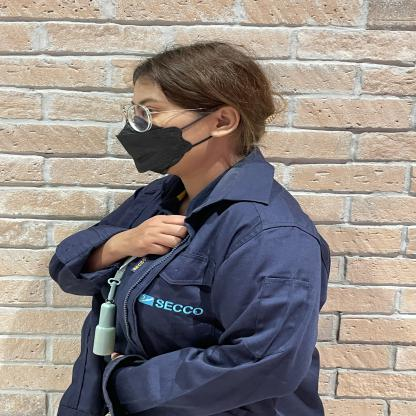Sadness: (54, 198, 209, 308)
